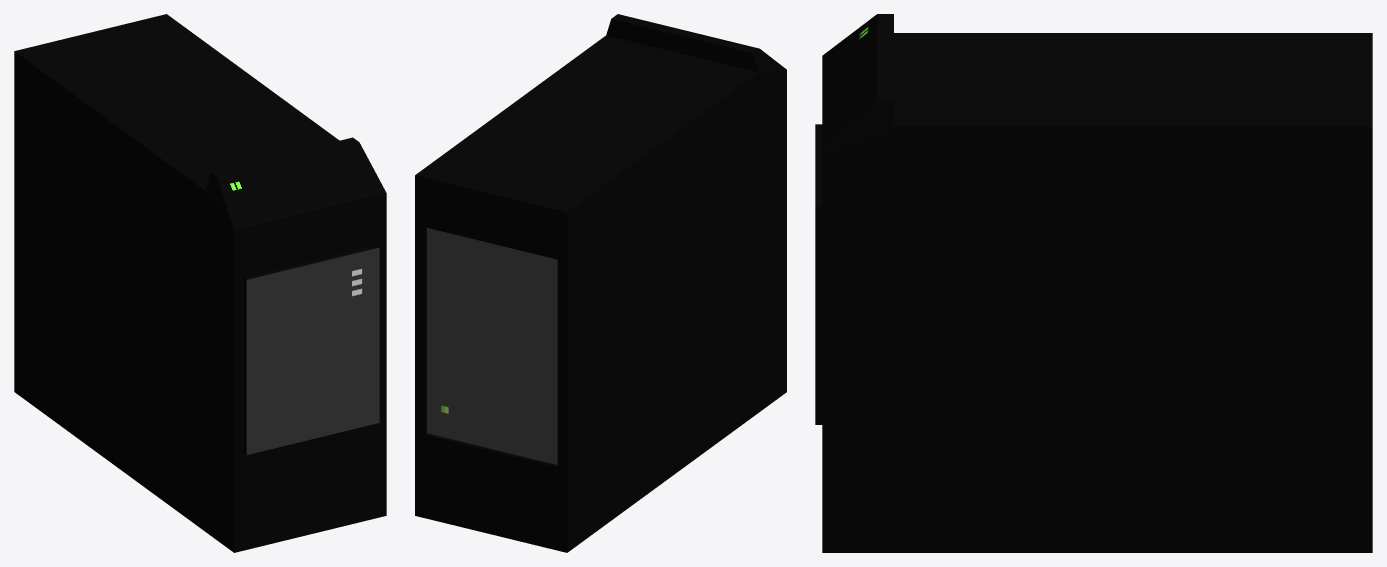
File: Computer.fbx
3 renders of one model, left to right at view 1: azimuth 30°, elevation 25°; view 2: azimuth 150°, elevation 25°; view 3: azimuth 270°, elevation 25°, orthographic. The views are drawn at different scales.
Visible parts, largest first — view 1: Computer; view 2: Computer; view 3: Computer.
Boxes of the visible parts, <box> form: Computer: <box>14,14,386,552</box>; Computer: <box>415,14,786,552</box>; Computer: <box>815,14,1372,552</box>.
Bounding box in the file's own units: 20 × 45 × 50.64.
